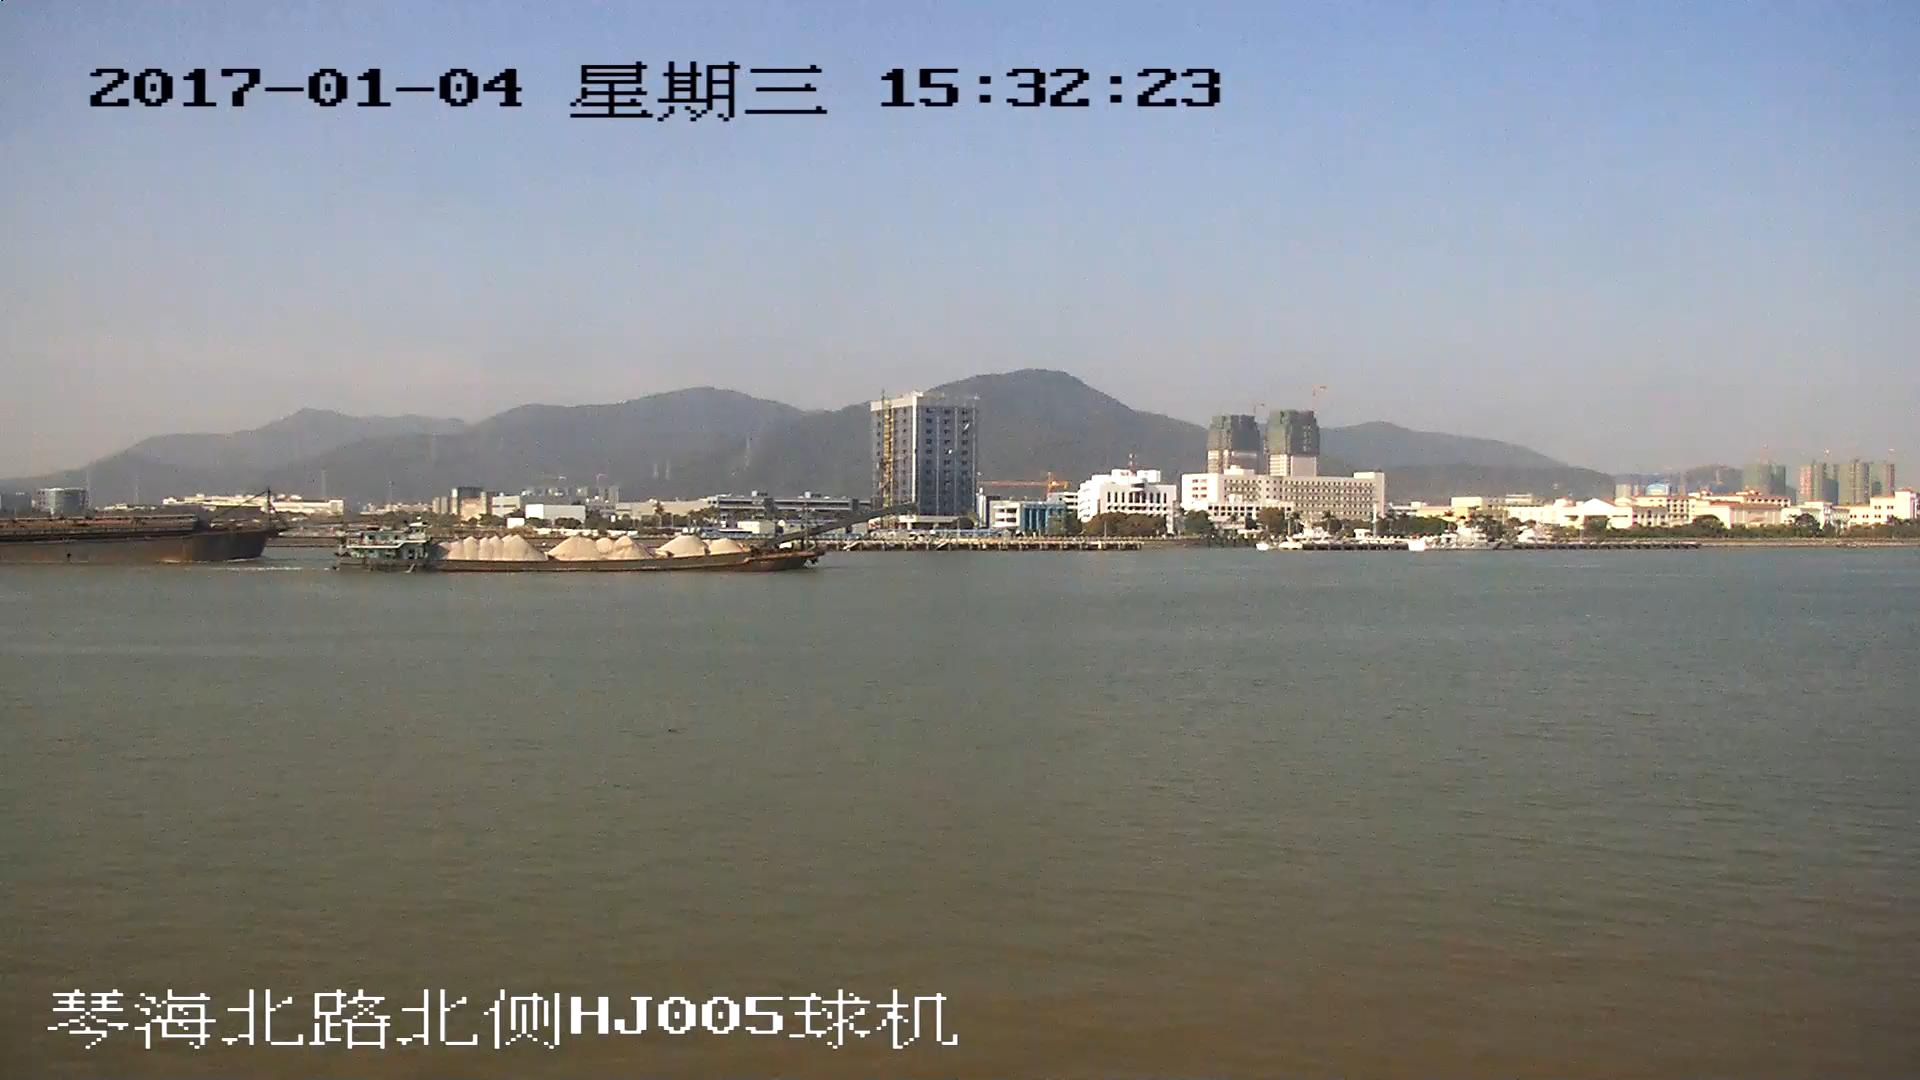bulk cargo carrier: (1, 489, 283, 561)
ore carrier: (340, 505, 912, 575)
